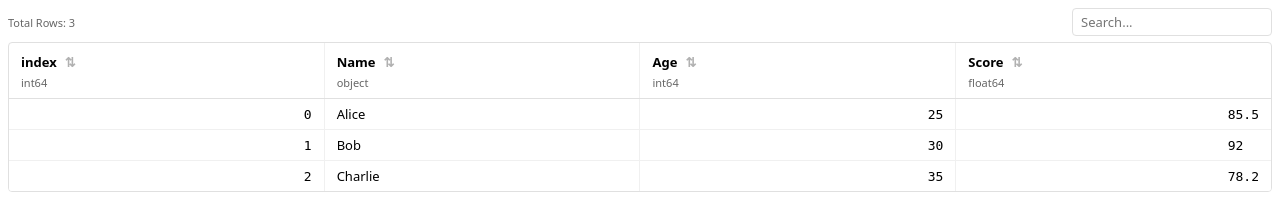
it: MitoViewer › filters data based on search term
Type "Alice" into the field with placeholder "Search..." at (1172, 22), box [1072, 8, 1272, 36]
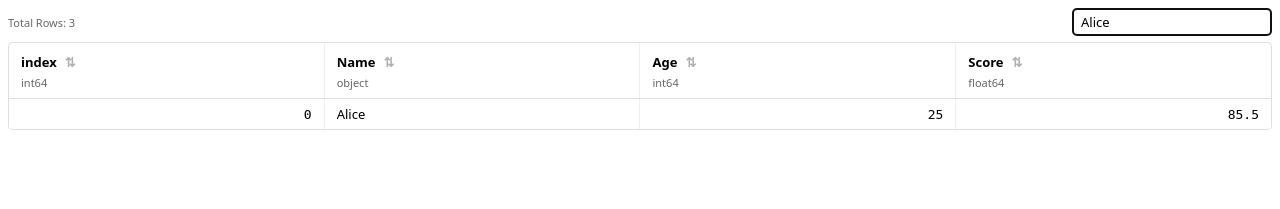
Check: the text "Alice" is shown, box [324, 98, 640, 129]
Check: the text "Bob" is gone
Check: the text "Charlie" is gone
